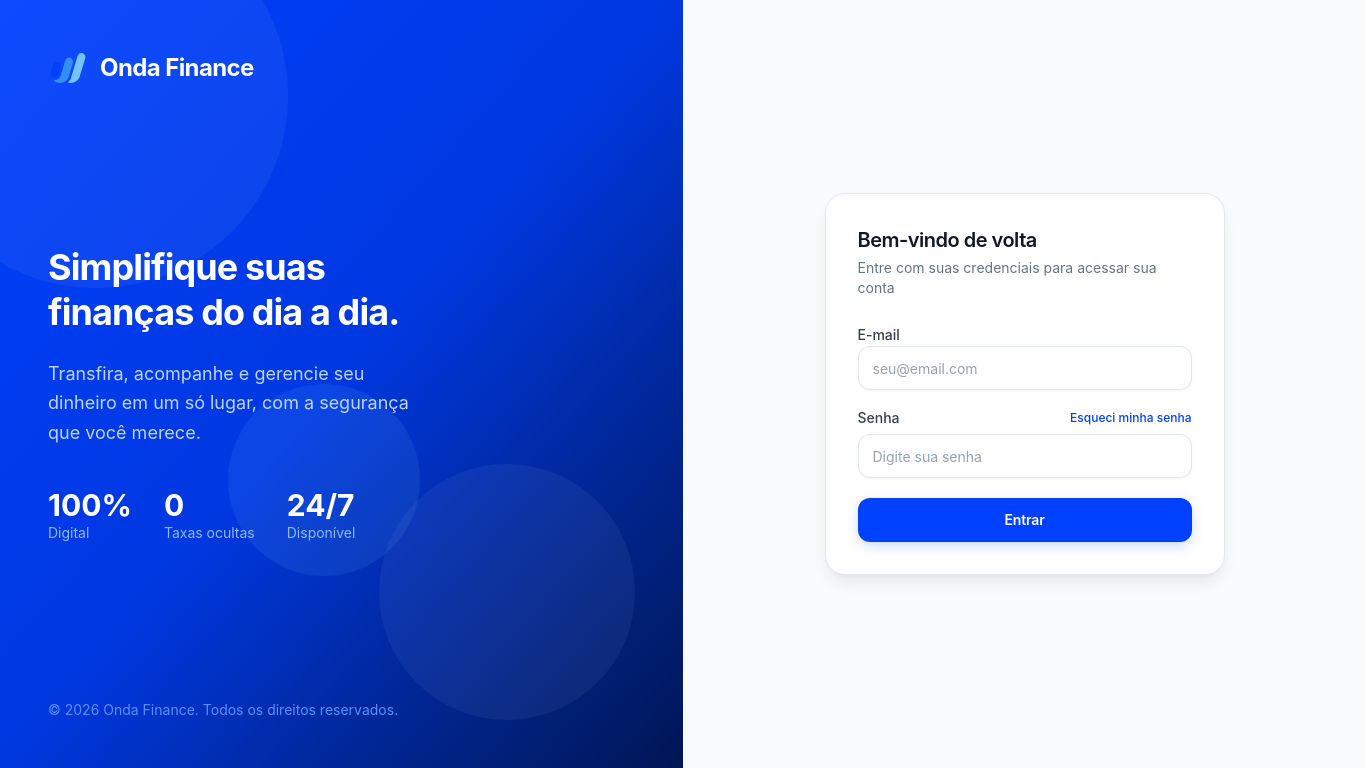
Login Page › should show validation errors for empty fields
The image size is (1366, 768).
Click the button "Entrar" at [1024, 520], box [858,498,1192,542]
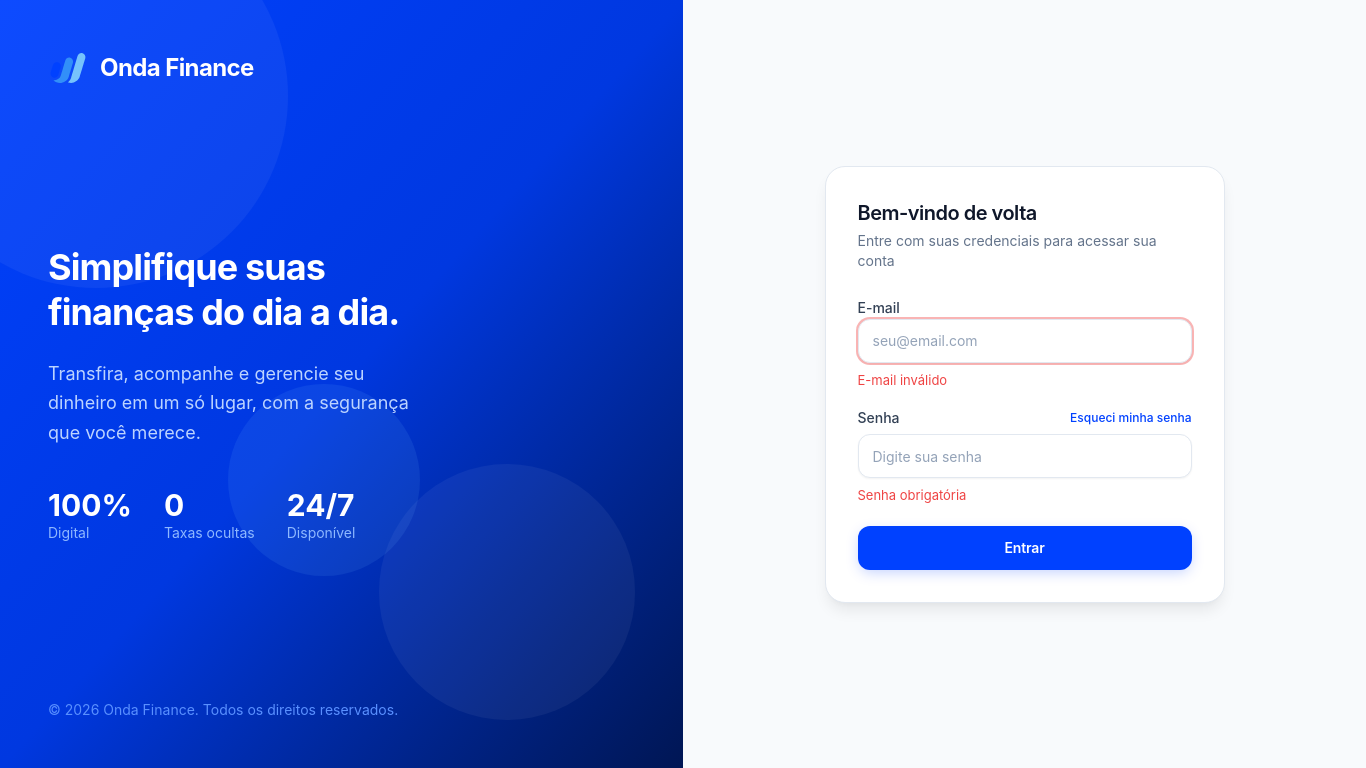
Expected: the text "E-mail inválido" is shown, [858,372,947,388]
